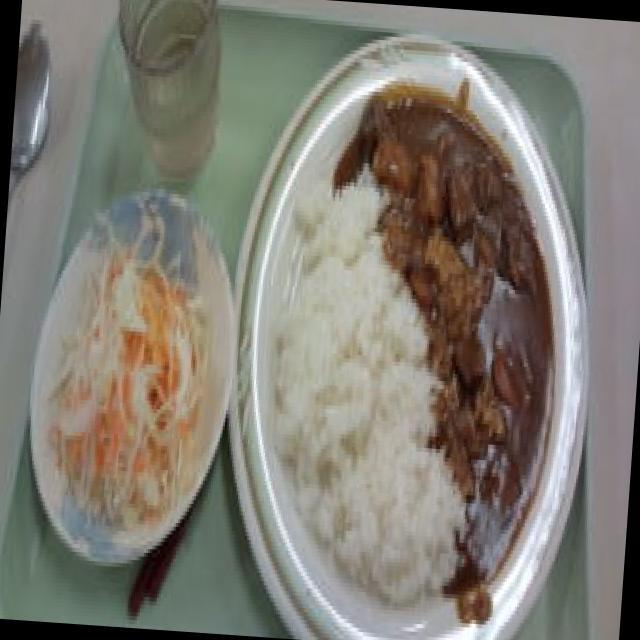Beef Curry: (372, 102, 568, 557)
Rice: (267, 182, 443, 578)
